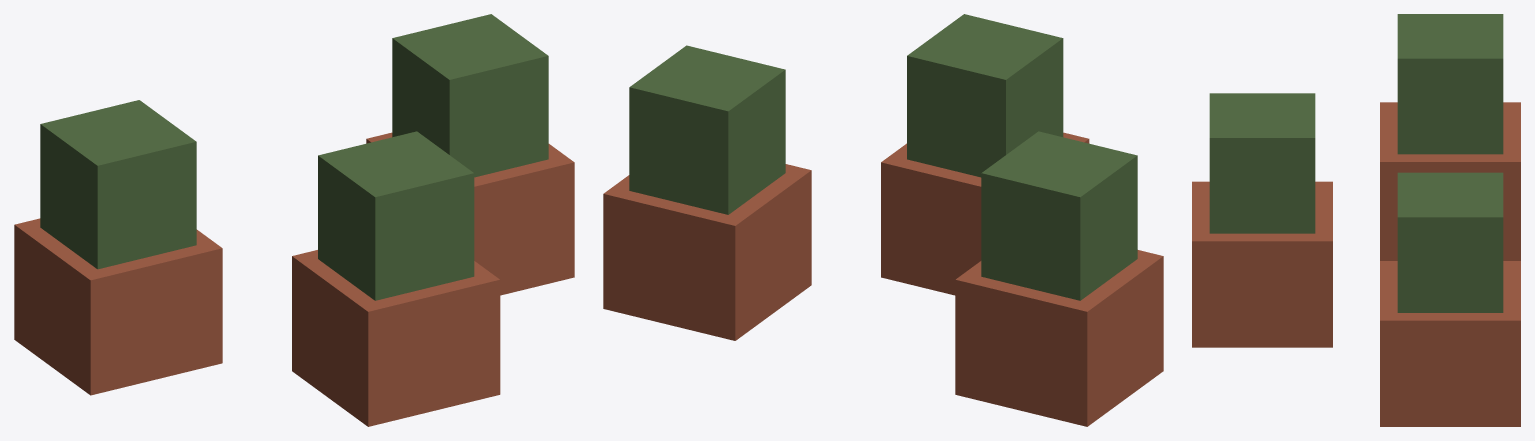
Rendered from seasonal-decorations.source.glb.
The picture shows the model from 3 angles, left to right: view 1: azimuth 30°, elevation 25°; view 2: azimuth 150°, elevation 25°; view 3: azimuth 270°, elevation 25°; orthographic projection. The views are drawn at different scales.
Parts seen in each view (by area): view 1: seasonal-decorations-planter--0.8-0-mesh, seasonal-decorations-planter-0-0.8-mesh, seasonal-decorations-green--0.8-0-mesh, seasonal-decorations-green-0-0.8-mesh, seasonal-decorations-green-0.8-0-mesh, seasonal-decorations-planter-0.8-0-mesh; view 2: seasonal-decorations-planter--0.8-0-mesh, seasonal-decorations-planter-0.8-0-mesh, seasonal-decorations-green--0.8-0-mesh, seasonal-decorations-green-0.8-0-mesh, seasonal-decorations-green-0-0.8-mesh, seasonal-decorations-planter-0-0.8-mesh; view 3: seasonal-decorations-planter-0-0.8-mesh, seasonal-decorations-planter-0.8-0-mesh, seasonal-decorations-green-0-0.8-mesh, seasonal-decorations-green--0.8-0-mesh, seasonal-decorations-green-0.8-0-mesh, seasonal-decorations-planter--0.8-0-mesh.
Part boxes in pixels (x1=…): seasonal-decorations-planter--0.8-0-mesh: x1=14, y1=218, x2=222, y2=395; seasonal-decorations-planter-0-0.8-mesh: x1=292, y1=250, x2=500, y2=426; seasonal-decorations-green--0.8-0-mesh: x1=40, y1=100, x2=196, y2=269; seasonal-decorations-green-0-0.8-mesh: x1=318, y1=131, x2=474, y2=300; seasonal-decorations-green-0.8-0-mesh: x1=392, y1=14, x2=548, y2=177; seasonal-decorations-planter-0.8-0-mesh: x1=366, y1=132, x2=574, y2=295; seasonal-decorations-planter--0.8-0-mesh: x1=955, y1=250, x2=1163, y2=426; seasonal-decorations-planter-0.8-0-mesh: x1=603, y1=164, x2=811, y2=340; seasonal-decorations-green--0.8-0-mesh: x1=981, y1=131, x2=1137, y2=300; seasonal-decorations-green-0.8-0-mesh: x1=629, y1=45, x2=785, y2=214; seasonal-decorations-green-0-0.8-mesh: x1=907, y1=14, x2=1063, y2=177; seasonal-decorations-planter-0-0.8-mesh: x1=881, y1=132, x2=1089, y2=295; seasonal-decorations-planter-0-0.8-mesh: x1=1192, y1=181, x2=1332, y2=347; seasonal-decorations-planter-0.8-0-mesh: x1=1380, y1=261, x2=1520, y2=426; seasonal-decorations-green-0-0.8-mesh: x1=1209, y1=93, x2=1315, y2=233; seasonal-decorations-green--0.8-0-mesh: x1=1397, y1=14, x2=1503, y2=154; seasonal-decorations-green-0.8-0-mesh: x1=1397, y1=172, x2=1503, y2=312; seasonal-decorations-planter--0.8-0-mesh: x1=1380, y1=102, x2=1520, y2=260.
Size of the model in its own units: 2.2 by 0.95 by 1.4.
